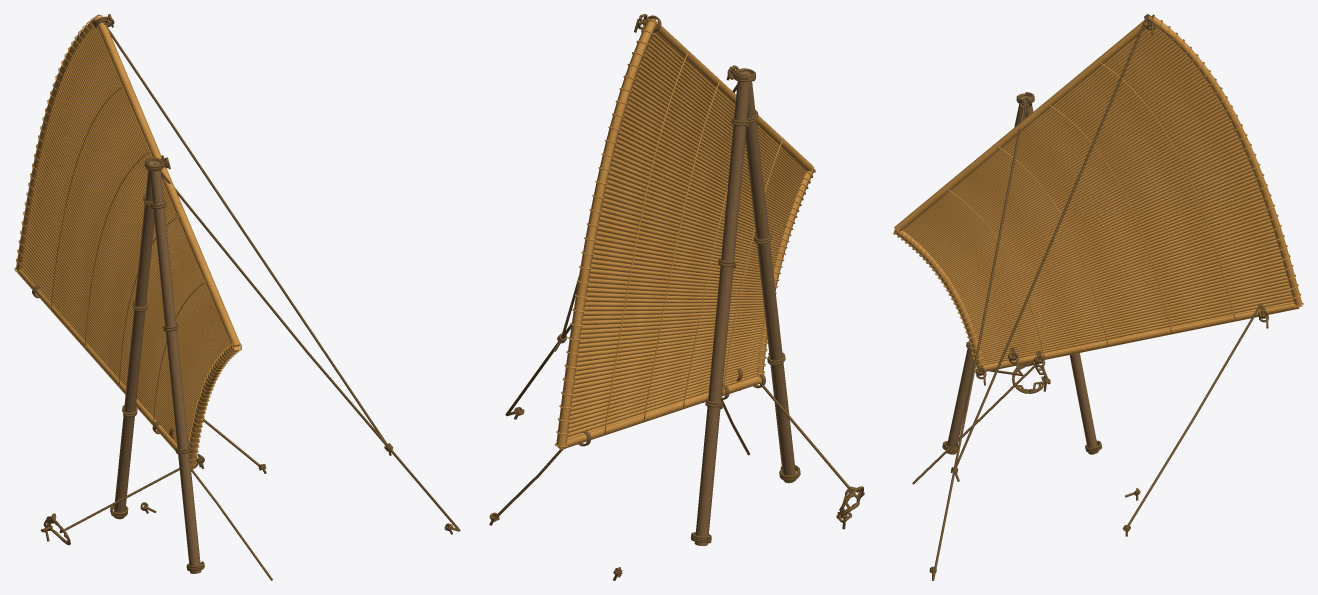
File: obj_vela.fbx
3 renders of one model, left to right at view 1: azimuth 30°, elevation 25°; view 2: azimuth 150°, elevation 25°; view 3: azimuth 270°, elevation 25°, orthographic. The views are drawn at different scales.
Visible parts, largest first — view 1: SM_Vela_Totora, SM_Vela_Soporte_Triangular, SM_Vela_Soga_Unida_Con_Ramal; view 2: SM_Vela_Totora, SM_Vela_Soporte_Triangular, SM_Vela_Soga_Unida_Con_Ramal, SM_Vela_Amarre_Estay_Casco; view 3: SM_Vela_Totora, SM_Vela_Soga_Unida_Con_Ramal, SM_Vela_Soporte_Triangular, SM_Vela_Soga_Borde_Vela_02.
Part boxes in pixels (bbox=[...]): SM_Vela_Totora: bbox=[14, 14, 241, 465]; SM_Vela_Soporte_Triangular: bbox=[114, 161, 201, 573]; SM_Vela_Soga_Unida_Con_Ramal: bbox=[102, 22, 460, 530]; SM_Vela_Totora: bbox=[554, 18, 815, 449]; SM_Vela_Soporte_Triangular: bbox=[694, 71, 795, 545]; SM_Vela_Soga_Unida_Con_Ramal: bbox=[505, 18, 737, 415]; SM_Vela_Amarre_Estay_Casco: bbox=[836, 486, 864, 529]; SM_Vela_Totora: bbox=[893, 14, 1303, 371]; SM_Vela_Soga_Unida_Con_Ramal: bbox=[932, 20, 1144, 580]; SM_Vela_Soporte_Triangular: bbox=[947, 96, 1098, 454]; SM_Vela_Soga_Borde_Vela_02: bbox=[1126, 303, 1261, 527].
Size of the model in its own units: 1.3 by 1.74 by 1.38.
